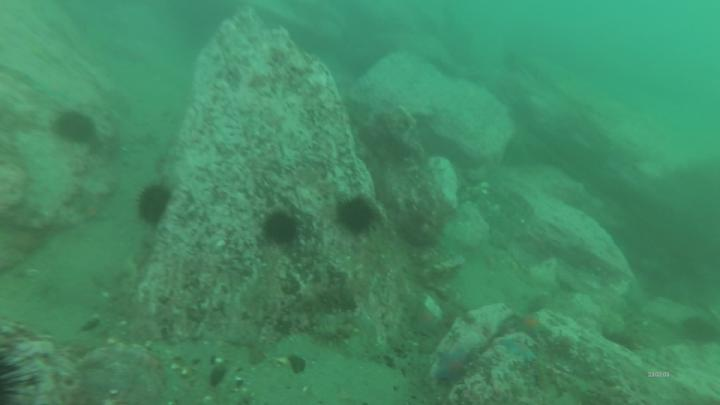echinus: (56, 113, 95, 146), (340, 200, 374, 234), (139, 186, 168, 224), (266, 216, 295, 243)
holothurian: (122, 258, 143, 295)
starfish: (435, 354, 468, 386), (414, 306, 439, 337), (499, 337, 534, 359), (79, 199, 110, 223), (517, 311, 546, 336)
